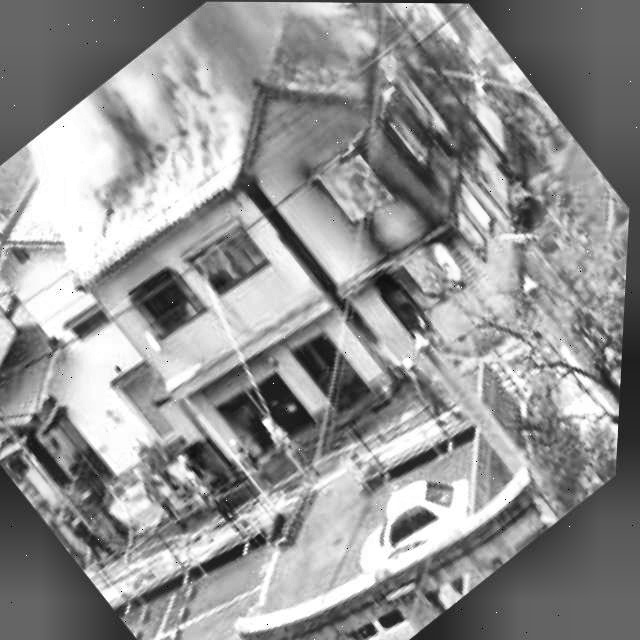Fire: (220, 38, 580, 392), (191, 224, 271, 300)
Smoke: (0, 0, 363, 292)
